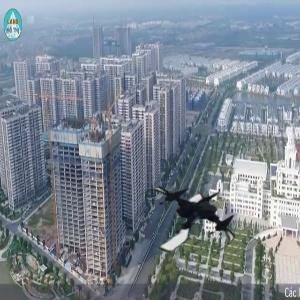drone: (136, 171, 237, 272)
